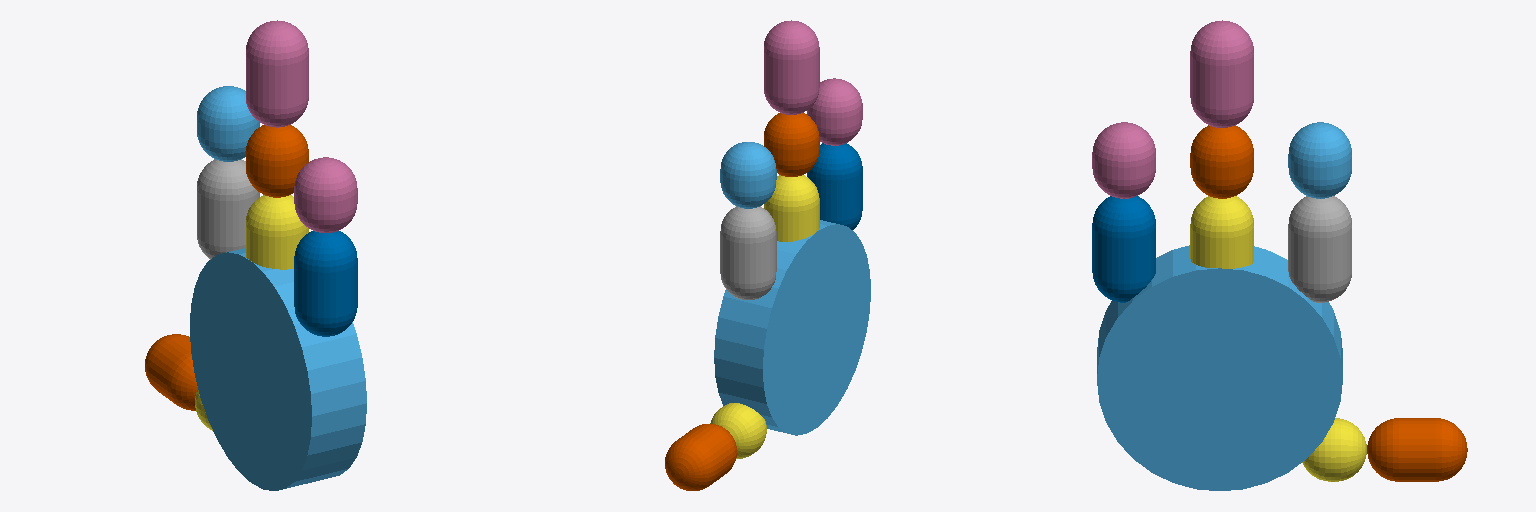
robot.urdf — DexterousHand:
<?xml version="1.0"?>
<robot name="DexterousHand">


    <link name="world"/>
    <joint name="world_to_palm" type="fixed">
        <parent link="world"/>
        <child link="palm"/>
        <origin xyz="0 0 0" rpy="0 0 0"/>
    </joint>
    <link name="palm">
        <inertial>
            <origin xyz="0 0 0.057" rpy="0 0 0"/>
            <mass value="0.30212892864"/>
            <inertia ixx="0.00049080844457568" ixy="0.0" ixz="0.0" iyy="0.00026746366246427523" iyz="0.0" izz="0.00026746366246427523"/>
        </inertial>
        <visual>
            <origin xyz="0 0 0.057" rpy="1.5708 0 1.5708"/>
            <geometry>
                <cylinder radius="0.057" length="0.0296"/>
            </geometry>
            <material name="default"/>
        </visual>
        <collision>
            <origin xyz="0 0 0.057" rpy="1.5708 0 1.5708"/>
            <geometry>
                <cylinder radius="0.057" length="0.0296"/>
            </geometry>
        </collision>
    </link>

    
    <joint name="thumb_joint1" type="revolute">
        <parent link="palm"/>
        <child link="thumb_base"/>
        <origin xyz="0.0029 0.0368 0.0157" rpy="-1.5708 -1.5708 0.0"/>
        <axis xyz="-1 0 0"/>
        <limit lower="-0.349" upper="2.094" effort="1.0" velocity="1.0"/>
    </joint>

    <link name="thumb_base"></link>

    <joint name="thumb_joint2" type="revolute">
        <parent link="thumb_base"/>
        <child link="thumb_proximal"/>
        <origin xyz="0.0 0.0 0.0" rpy="0.0 0.0 0.0"/>
        <axis xyz="0 0 1"/>
        <limit lower="-0.47" upper="2.443" effort="1.0" velocity="1.0"/>
    </joint>

    <link name="thumb_proximal">
        <inertial>
            <origin xyz="0 0 0.01565" rpy="0 0 0"/>
            <mass value="0.021538658803200002"/>
            <inertia ixx="2.9378910096388167e-06" ixy="0.0" ixz="0.0" 
            iyy="2.9378910096388167e-06" iyz="0.0" izz="2.358913912126464e-06"/>
        </inertial>
        <visual>
            <origin xyz="0 0 0.01565" rpy="0 0 0"/>
            <geometry>
                <cylinder radius="0.0148" length="0.0017000000000000001"/>
            </geometry>
            <material name="default"/>
        </visual>
        <visual>
            <origin xyz="0 0 0.0148" rpy="0 0 0"/>
            <geometry>
                <sphere radius="0.0148"/>
            </geometry>
            <material name="default"/>
        </visual>
        <visual>
            <origin xyz="0 0 0.0165" rpy="0 0 0"/>
            <geometry>
                <sphere radius="0.0148"/>
            </geometry>
            <material name="default"/>
        </visual>
        <collision>
            <origin xyz="0 0 0.01565" rpy="0 0 0"/>
            <geometry>
                <cylinder radius="0.0148" length="0.0017000000000000001"/>
            </geometry>
        </collision>
        <collision>
            <origin xyz="0 0 0.0148" rpy="0 0 0"/>
            <geometry>
                <sphere radius="0.0148"/>
            </geometry>
        </collision>
        <collision>
            <origin xyz="0 0 0.0165" rpy="0 0 0"/>
            <geometry>
                <sphere radius="0.0148"/>
            </geometry>
        </collision>
    </link>

    <joint name="thumb_joint3" type="revolute">
        <parent link="thumb_proximal"/>
        <child link="thumb_knuckle"/>
        <origin xyz="0.0 0.0 0.0313" rpy="0.0 0.0 0.0"/>
        <axis xyz="1 0 0"/>
        <limit lower="0.0" upper="0.0" effort="1.0" velocity="1.0"/>
    </joint>

    <link name="thumb_knuckle"></link>

    <joint name="thumb_joint4" type="revolute">
        <parent link="thumb_knuckle"/>
        <child link="thumb_middle"/>
        <origin xyz="0 0 0" rpy="0 0 0"/> 
        <axis xyz="0 1 0"/>
        <limit lower="-1.2" upper="1.9" effort="1.0" velocity="1.0"/>
    </joint>

    <link name="thumb_middle">
        <inertial>
            <origin xyz="0 0 0.0233" rpy="0 0 0"/>
            <mass value="0.032067140582400004"/>
            <inertia ixx="7.5589732685519385e-06" ixy="0.0" ixz="0.0" 
            iyy="7.5589732685519385e-06" iyz="0.0" izz="3.5119932365844485e-06"/>
        </inertial>
        <visual>
            <origin xyz="0 0 0.0233" rpy="0 0 0"/>
            <geometry>
                <cylinder radius="0.0148" length="0.017"/>
            </geometry>
            <material name="default"/>
        </visual>
        <visual>
            <origin xyz="0 0 0.0148" rpy="0 0 0"/>
            <geometry>
                <sphere radius="0.0148"/>
            </geometry>
            <material name="default"/>
        </visual>
        <visual>
            <origin xyz="0 0 0.0318" rpy="0 0 0"/>
            <geometry>
                <sphere radius="0.0148"/>
            </geometry>
            <material name="default"/>
        </visual>
        <collision>
            <origin xyz="0 0 0.0233" rpy="0 0 0"/>
            <geometry>
                <cylinder radius="0.0148" length="0.017"/>
            </geometry>
        </collision>
        <collision>
            <origin xyz="0 0 0.0148" rpy="0 0 0"/>
            <geometry>
                <sphere radius="0.0148"/>
            </geometry>
        </collision>
        <collision>
            <origin xyz="0 0 0.0318" rpy="0 0 0"/>
            <geometry>
                <sphere radius="0.0148"/>
            </geometry>
        </collision>
    </link>

    <joint name="thumb_joint5" type="revolute">
        <parent link="thumb_middle"/>
        <child link="thumb_distal"/>
        <origin xyz="0 0 0.0466" rpy="0 0 0"/> 
        <axis xyz="0 1 0"/>
        <limit lower="0.0" upper="0.0" effort="1.0" velocity="1.0"/>
    </joint>

    <link name="thumb_distal">
    </link>

    
    <joint name="index_joint1" type="revolute">
        <parent link="palm"/>
        <child link="index_proximal"/>
        <origin xyz="0.0 0.0465 0.091" rpy="0.0 0.0 0.0"/>
        <axis xyz="0 1 0"/>
        <limit lower="-0.314" upper="2.23" effort="1.0" velocity="1.0"/>
    </joint>

    <link name="index_proximal">
        <inertial>
            <origin xyz="0 0 0.02655" rpy="0 0 0"/>
            <mass value="0.036540024998400006"/>
            <inertia ixx="1.058665009272394e-05" ixy="0.0" ixz="0.0" 
            iyy="1.058665009272394e-05" iyz="0.0" izz="4.001863537824769e-06"/>
        </inertial>
        <visual>
            <origin xyz="0 0 0.02655" rpy="0 0 0"/>
            <geometry>
                <cylinder radius="0.0148" length="0.0235"/>
            </geometry>
            <material name="default"/>
        </visual>
        <visual>
            <origin xyz="0 0 0.0148" rpy="0 0 0"/>
            <geometry>
                <sphere radius="0.0148"/>
            </geometry>
            <material name="default"/>
        </visual>
        <visual>
            <origin xyz="0 0 0.0383" rpy="0 0 0"/>
            <geometry>
                <sphere radius="0.0148"/>
            </geometry>
            <material name="default"/>
        </visual>
        <collision>
            <origin xyz="0 0 0.02655" rpy="0 0 0"/>
            <geometry>
                <cylinder radius="0.0148" length="0.0235"/>
            </geometry>
        </collision>
        <collision>
            <origin xyz="0 0 0.0148" rpy="0 0 0"/>
            <geometry>
                <sphere radius="0.0148"/>
            </geometry>
        </collision>
        <collision>
            <origin xyz="0 0 0.0383" rpy="0 0 0"/>
            <geometry>
                <sphere radius="0.0148"/>
            </geometry>
        </collision>
    </link>

    <joint name="index_joint2" type="revolute">
        <parent link="index_proximal"/>
        <child link="index_dummy"/>
        <origin xyz="0.0 0.0 0.038" rpy="0.0 0.0 0.0"/>
        <axis xyz="1 0 0"/>
        <limit lower="-1.047" upper="1.047" effort="1.0" velocity="1.0"/>
    </joint>

    <link name="index_dummy"></link>

    <joint name="index_joint3" type="revolute">
        <parent link="index_dummy"/>
        <child link="index_middle"/>
        <origin xyz="0 0 0.015100000000000002" rpy="0 0 0"/>
        <axis xyz="0 1 0"/>
        <limit lower="-0.506" upper="1.885" effort="1.0" velocity="1.0"/>
    </joint>

    <link name="index_middle">
        <inertial>
            <origin xyz="0 0 0.01805" rpy="0 0 0"/>
            <mass value="0.0248417119104"/>
            <inertia ixx="4.058162759109537e-06" ixy="0.0" ixz="0.0" 
            iyy="4.058162759109537e-06" iyz="0.0" izz="2.7206642884270085e-06"/>
        </inertial>
        <visual>
            <origin xyz="0 0 0.01805" rpy="0 0 0"/>
            <geometry>
                <cylinder radius="0.0148" length="0.006499999999999999"/>
            </geometry>
            <material name="default"/>
        </visual>
        <visual>
            <origin xyz="0 0 0.0148" rpy="0 0 0"/>
            <geometry>
                <sphere radius="0.0148"/>
            </geometry>
            <material name="default"/>
        </visual>
        <visual>
            <origin xyz="0 0 0.0213" rpy="0 0 0"/>
            <geometry>
                <sphere radius="0.0148"/>
            </geometry>
            <material name="default"/>
        </visual>
        <collision>
            <origin xyz="0 0 0.01805" rpy="0 0 0"/>
            <geometry>
                <cylinder radius="0.0148" length="0.006499999999999999"/>
            </geometry>
        </collision>
        <collision>
            <origin xyz="0 0 0.0148" rpy="0 0 0"/>
            <geometry>
                <sphere radius="0.0148"/>
            </geometry>
        </collision>
        <collision>
            <origin xyz="0 0 0.0213" rpy="0 0 0"/>
            <geometry>
                <sphere radius="0.0148"/>
            </geometry>
        </collision>
    </link>

    <joint name="index_joint4" type="revolute">
        <parent link="index_middle"/>
        <child link="index_distal"/>
        <origin xyz="0 0 0.0361" rpy="0 0 0"/> 
        <axis xyz="0 1 0"/>
        <limit lower="0.0" upper="0.0" effort="1.0" velocity="1.0"/>
    </joint>

    <link name="index_distal">
    </link>

    
    <joint name="middle_joint1" type="revolute">
        <parent link="palm"/>
        <child link="middle_proximal"/>
        <origin xyz="0.0 0.0011 0.091" rpy="0.0 0.0 0.0"/>
        <axis xyz="0 1 0"/>
        <limit lower="-0.314" upper="2.23" effort="1.0" velocity="1.0"/>
    </joint>

    <link name="middle_proximal">
        <inertial>
            <origin xyz="0 0 0.02655" rpy="0 0 0"/>
            <mass value="0.036540024998400006"/>
            <inertia ixx="1.058665009272394e-05" ixy="0.0" ixz="0.0" 
            iyy="1.058665009272394e-05" iyz="0.0" izz="4.001863537824769e-06"/>
        </inertial>
        <visual>
            <origin xyz="0 0 0.02655" rpy="0 0 0"/>
            <geometry>
                <cylinder radius="0.0148" length="0.0235"/>
            </geometry>
            <material name="default"/>
        </visual>
        <visual>
            <origin xyz="0 0 0.0148" rpy="0 0 0"/>
            <geometry>
                <sphere radius="0.0148"/>
            </geometry>
            <material name="default"/>
        </visual>
        <visual>
            <origin xyz="0 0 0.0383" rpy="0 0 0"/>
            <geometry>
                <sphere radius="0.0148"/>
            </geometry>
            <material name="default"/>
        </visual>
        <collision>
            <origin xyz="0 0 0.02655" rpy="0 0 0"/>
            <geometry>
                <cylinder radius="0.0148" length="0.0235"/>
            </geometry>
        </collision>
        <collision>
            <origin xyz="0 0 0.0148" rpy="0 0 0"/>
            <geometry>
                <sphere radius="0.0148"/>
            </geometry>
        </collision>
        <collision>
            <origin xyz="0 0 0.0383" rpy="0 0 0"/>
            <geometry>
                <sphere radius="0.0148"/>
            </geometry>
        </collision>
    </link>

    <joint name="middle_joint2" type="revolute">
        <parent link="middle_proximal"/>
        <child link="middle_dummy"/>
        <origin xyz="0.0 0.0 0.038" rpy="0.0 0.0 0.0"/>
        <axis xyz="1 0 0"/>
        <limit lower="-1.047" upper="1.047" effort="1.0" velocity="1.0"/>
    </joint>

    <link name="middle_dummy"></link>

    <joint name="middle_joint3" type="revolute">
        <parent link="middle_dummy"/>
        <child link="middle_middle"/>
        <origin xyz="0 0 0.015100000000000002" rpy="0 0 0"/>
        <axis xyz="0 1 0"/>
        <limit lower="-0.506" upper="1.885" effort="1.0" velocity="1.0"/>
    </joint>

    <link name="middle_middle">
        <inertial>
            <origin xyz="0 0 0.01805" rpy="0 0 0"/>
            <mass value="0.0248417119104"/>
            <inertia ixx="4.058162759109537e-06" ixy="0.0" ixz="0.0" 
            iyy="4.058162759109537e-06" iyz="0.0" izz="2.7206642884270085e-06"/>
        </inertial>
        <visual>
            <origin xyz="0 0 0.01805" rpy="0 0 0"/>
            <geometry>
                <cylinder radius="0.0148" length="0.006499999999999999"/>
            </geometry>
            <material name="default"/>
        </visual>
        <visual>
            <origin xyz="0 0 0.0148" rpy="0 0 0"/>
            <geometry>
                <sphere radius="0.0148"/>
            </geometry>
            <material name="default"/>
        </visual>
        <visual>
            <origin xyz="0 0 0.0213" rpy="0 0 0"/>
            <geometry>
                <sphere radius="0.0148"/>
            </geometry>
            <material name="default"/>
        </visual>
        <collision>
            <origin xyz="0 0 0.01805" rpy="0 0 0"/>
            <geometry>
                <cylinder radius="0.0148" length="0.006499999999999999"/>
            </geometry>
        </collision>
        <collision>
            <origin xyz="0 0 0.0148" rpy="0 0 0"/>
            <geometry>
                <sphere radius="0.0148"/>
            </geometry>
        </collision>
        <collision>
            <origin xyz="0 0 0.0213" rpy="0 0 0"/>
            <geometry>
                <sphere radius="0.0148"/>
            </geometry>
        </collision>
    </link>

    <joint name="middle_joint4" type="revolute">
        <parent link="middle_middle"/>
        <child link="middle_distal"/>
        <origin xyz="0 0 0.0361" rpy="0 0 0"/> 
        <axis xyz="0 1 0"/>
        <limit lower="-0.366" upper="2.042" effort="1.0" velocity="1.0"/>
    </joint>

    <link name="middle_distal">
        <inertial>
            <origin xyz="0 0 0.026" rpy="0 0 0"/>
            <mass value="0.035783075328"/>
            <inertia ixx="1.002260084553728e-05" ixy="0.0" ixz="0.0" 
            iyy="1.002260084553728e-05" iyz="0.0" izz="3.91896240992256e-06"/>
        </inertial>
        <visual>
            <origin xyz="0 0 0.026" rpy="0 0 0"/>
            <geometry>
                <cylinder radius="0.0148" length="0.022399999999999996"/>
            </geometry>
            <material name="default"/>
        </visual>
        <visual>
            <origin xyz="0 0 0.0148" rpy="0 0 0"/>
            <geometry>
                <sphere radius="0.0148"/>
            </geometry>
            <material name="default"/>
        </visual>
        <visual>
            <origin xyz="0 0 0.0372" rpy="0 0 0"/>
            <geometry>
                <sphere radius="0.0148"/>
            </geometry>
            <material name="default"/>
        </visual>
        <collision>
            <origin xyz="0 0 0.026" rpy="0 0 0"/>
            <geometry>
                <cylinder radius="0.0148" length="0.022399999999999996"/>
            </geometry>
        </collision>
        <collision>
            <origin xyz="0 0 0.0148" rpy="0 0 0"/>
            <geometry>
                <sphere radius="0.0148"/>
            </geometry>
        </collision>
        <collision>
            <origin xyz="0 0 0.0372" rpy="0 0 0"/>
            <geometry>
                <sphere radius="0.0148"/>
            </geometry>
        </collision>
    </link>

    
    <joint name="ring_joint1" type="revolute">
        <parent link="palm"/>
        <child link="ring_proximal"/>
        <origin xyz="0.0 0.0 0.0" rpy="0.0 0.0 0.0"/>
        <axis xyz="1 0 0"/>
        <limit lower="0.0" upper="0.0" effort="1.0" velocity="1.0"/>
    </joint>

    <link name="ring_proximal">
    </link>

    <joint name="ring_joint2" type="revolute">
        <parent link="ring_proximal"/>
        <child link="ring_dummy"/>
        <origin xyz="0.0 0.0 0.0" rpy="0.0 0.0 0.0"/>
        <axis xyz="0 1 0"/>
        <limit lower="0.0" upper="0.0" effort="1.0" velocity="1.0"/>
    </joint>

    <link name="ring_dummy"></link>

    <joint name="ring_joint3" type="revolute">
        <parent link="ring_dummy"/>
        <child link="ring_middle"/>
        <origin xyz="0 0 0" rpy="0 0 0"/>
        <axis xyz="0 1 0"/>
        <limit lower="0.0" upper="0.0" effort="1.0" velocity="1.0"/>
    </joint>

    <link name="ring_middle">
    </link>

    <joint name="ring_joint4" type="revolute">
        <parent link="ring_middle"/>
        <child link="ring_distal"/>
        <origin xyz="0 0 0" rpy="0 0 0"/> 
        <axis xyz="0 1 0"/>
        <limit lower="0.0" upper="0.0" effort="1.0" velocity="1.0"/>
    </joint>

    <link name="ring_distal">
    </link>

    
    <joint name="little_joint0" type="revolute">
        <parent link="palm"/>
        <child link="little_base"/>
        <origin xyz="0.0 0.0 0.0" rpy="0.0 0.0 0.0"/>
        <axis xyz="0 1 0"/>
        <limit lower="0.0" upper="0.0" effort="1.0" velocity="1.0"/>
    </joint>

    <link name="little_base"></link>

    <joint name="little_joint1" type="revolute">
        <parent link="little_base"/>
        <child link="little_proximal"/>
        <origin xyz="0.0 -0.0443 0.091" rpy="-0.0 -0.0 -0.0"/>
        <axis xyz="0 1 0"/>
        <limit lower="-0.314" upper="2.23" effort="1.0" velocity="1.0"/>
    </joint>

    <link name="little_proximal">
        <inertial>
            <origin xyz="0 0 0.02655" rpy="0 0 0"/>
            <mass value="0.036540024998400006"/>
            <inertia ixx="1.058665009272394e-05" ixy="0.0" ixz="0.0" 
            iyy="1.058665009272394e-05" iyz="0.0" izz="4.001863537824769e-06"/>
        </inertial>
        <visual>
            <origin xyz="0 0 0.02655" rpy="0 0 0"/>
            <geometry>
                <cylinder radius="0.0148" length="0.0235"/>
            </geometry>
            <material name="default"/>
        </visual>
        <visual>
            <origin xyz="0 0 0.0148" rpy="0 0 0"/>
            <geometry>
                <sphere radius="0.0148"/>
            </geometry>
            <material name="default"/>
        </visual>
        <visual>
            <origin xyz="0 0 0.0383" rpy="0 0 0"/>
            <geometry>
                <sphere radius="0.0148"/>
            </geometry>
            <material name="default"/>
        </visual>
        <collision>
            <origin xyz="0 0 0.02655" rpy="0 0 0"/>
            <geometry>
                <cylinder radius="0.0148" length="0.0235"/>
            </geometry>
        </collision>
        <collision>
            <origin xyz="0 0 0.0148" rpy="0 0 0"/>
            <geometry>
                <sphere radius="0.0148"/>
            </geometry>
        </collision>
        <collision>
            <origin xyz="0 0 0.0383" rpy="0 0 0"/>
            <geometry>
                <sphere radius="0.0148"/>
            </geometry>
        </collision>
    </link>

    <joint name="little_joint2" type="revolute">
        <parent link="little_proximal"/>
        <child link="little_dummy"/>
        <origin xyz="0.0 0.0 0.038" rpy="0.0 0.0 0.0"/>
        <axis xyz="1 0 0"/>
        <limit lower="-1.047" upper="1.047" effort="1.0" velocity="1.0"/>
    </joint>

    <link name="little_dummy"></link>

    <joint name="little_joint3" type="revolute">
        <parent link="little_dummy"/>
        <child link="little_middle"/>
        <origin xyz="0 0 0.015100000000000002" rpy="0 0 0"/>
        <axis xyz="0 1 0"/>
        <limit lower="-0.506" upper="1.885" effort="1.0" velocity="1.0"/>
    </joint>

    <link name="little_middle">
        <inertial>
            <origin xyz="0 0 0.01805" rpy="0 0 0"/>
            <mass value="0.0248417119104"/>
            <inertia ixx="4.058162759109537e-06" ixy="0.0" ixz="0.0" 
            iyy="4.058162759109537e-06" iyz="0.0" izz="2.7206642884270085e-06"/>
        </inertial>
        <visual>
            <origin xyz="0 0 0.01805" rpy="0 0 0"/>
            <geometry>
                <cylinder radius="0.0148" length="0.006499999999999999"/>
            </geometry>
            <material name="default"/>
        </visual>
        <visual>
            <origin xyz="0 0 0.0148" rpy="0 0 0"/>
            <geometry>
                <sphere radius="0.0148"/>
            </geometry>
            <material name="default"/>
        </visual>
        <visual>
            <origin xyz="0 0 0.0213" rpy="0 0 0"/>
            <geometry>
                <sphere radius="0.0148"/>
            </geometry>
            <material name="default"/>
        </visual>
        <collision>
            <origin xyz="0 0 0.01805" rpy="0 0 0"/>
            <geometry>
                <cylinder radius="0.0148" length="0.006499999999999999"/>
            </geometry>
        </collision>
        <collision>
            <origin xyz="0 0 0.0148" rpy="0 0 0"/>
            <geometry>
                <sphere radius="0.0148"/>
            </geometry>
        </collision>
        <collision>
            <origin xyz="0 0 0.0213" rpy="0 0 0"/>
            <geometry>
                <sphere radius="0.0148"/>
            </geometry>
        </collision>
    </link>

    <joint name="little_joint4" type="revolute">
        <parent link="little_middle"/>
        <child link="little_distal"/>
        <origin xyz="0 0 0.0361" rpy="0 0 0"/>
        <axis xyz="0 1 0"/>
        <limit lower="0.0" upper="0.0" effort="1.0" velocity="1.0"/>
    </joint>

    <link name="little_distal">
    </link>

</robot>

--- What the picture shows (computed from the rendered views, not written in the file) ---
3 views of the same robot in one strip: view 1: azimuth 30°, elevation 25°; view 2: azimuth 150°, elevation 25°; view 3: azimuth 270°, elevation 25° (orthographic).
Robot: DexterousHand — 24 links, 23 joints (22 revolute, 1 fixed); root link world; default pose: every joint at zero.
Visible links, largest first — view 1: palm, little_proximal, middle_distal, index_proximal, little_middle, middle_middle, middle_proximal, index_middle, thumb_middle; view 2: palm, index_proximal, middle_distal, thumb_middle, little_proximal, index_middle, middle_proximal, middle_middle, little_middle, thumb_proximal; view 3: palm, middle_distal, index_proximal, little_proximal, thumb_middle, middle_proximal, little_middle, index_middle, middle_middle, thumb_proximal.
Boxes of the visible links, x1,y1,x2,y2 form: palm: [190, 248, 366, 490]; little_proximal: [294, 231, 357, 336]; middle_distal: [246, 20, 308, 127]; index_proximal: [197, 159, 259, 259]; little_middle: [294, 157, 357, 232]; middle_middle: [246, 125, 308, 197]; middle_proximal: [246, 195, 308, 269]; index_middle: [197, 86, 259, 161]; thumb_middle: [145, 334, 197, 410]; palm: [714, 220, 870, 435]; index_proximal: [720, 206, 776, 299]; middle_distal: [764, 20, 819, 114]; thumb_middle: [665, 424, 736, 490]; little_proximal: [807, 143, 862, 229]; index_middle: [720, 142, 776, 208]; middle_proximal: [764, 175, 819, 241]; middle_middle: [764, 113, 819, 176]; little_middle: [807, 78, 862, 145]; thumb_proximal: [710, 403, 766, 458]; palm: [1097, 245, 1342, 490]; middle_distal: [1190, 20, 1253, 127]; index_proximal: [1288, 196, 1351, 302]; little_proximal: [1092, 196, 1155, 302]; thumb_middle: [1367, 418, 1467, 481]; middle_proximal: [1190, 196, 1253, 268]; little_middle: [1092, 122, 1155, 198]; index_middle: [1288, 122, 1351, 198]; middle_middle: [1190, 125, 1253, 198]; thumb_proximal: [1302, 418, 1366, 481].
Size in the robot's own frame: 0.0325 by 0.1738 by 0.2322 metres.
Geometry: primitives only (box / cylinder / sphere), no mesh files.
